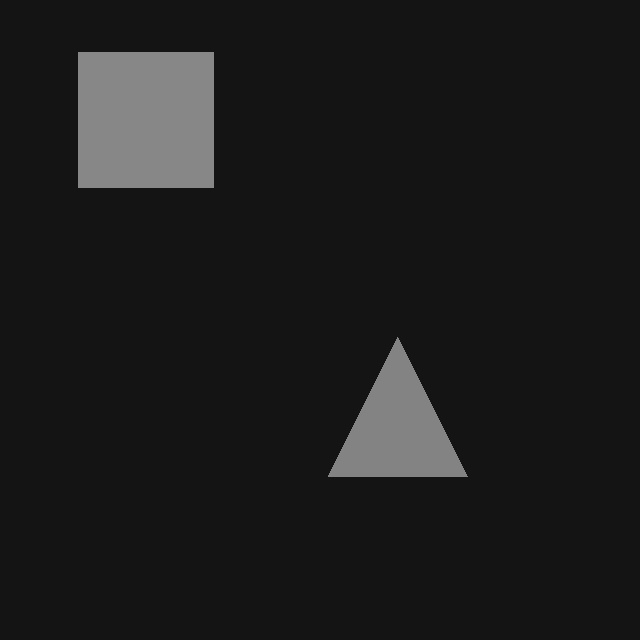square: (78, 52, 213, 187)
triangle: (328, 337, 467, 476)
